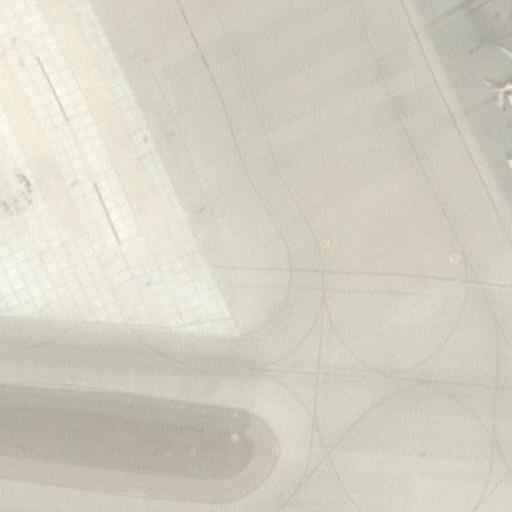Aircraft: (482, 43, 512, 117)
